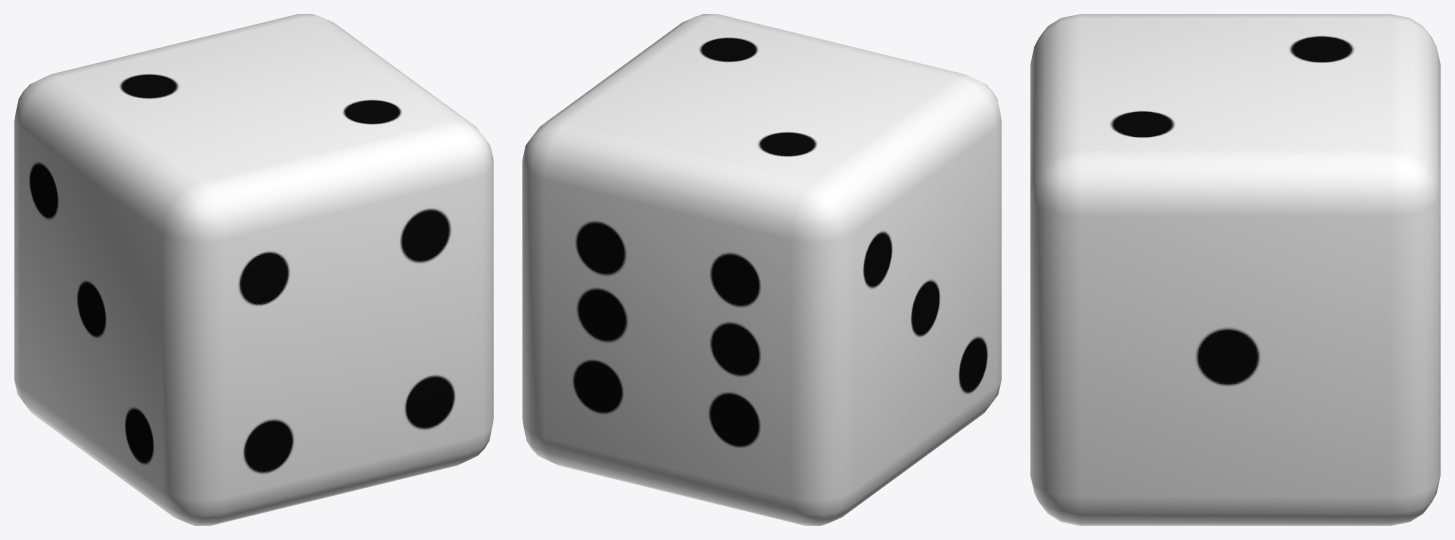
Rendered from dice.fbx.
3 renders of one model, left to right at view 1: azimuth 30°, elevation 25°; view 2: azimuth 150°, elevation 25°; view 3: azimuth 270°, elevation 25°, orthographic. The views are drawn at different scales.
Parts seen in each view (by area): view 1: dice; view 2: dice; view 3: dice.
Boxes of the visible parts, x1,y1,x2,y2 form: dice: [14, 14, 493, 525]; dice: [522, 14, 1001, 525]; dice: [1030, 14, 1440, 525].
Bounding box in the file's own units: 8000 × 8000 × 8000.
Materials: 1 (1 with a texture image).
